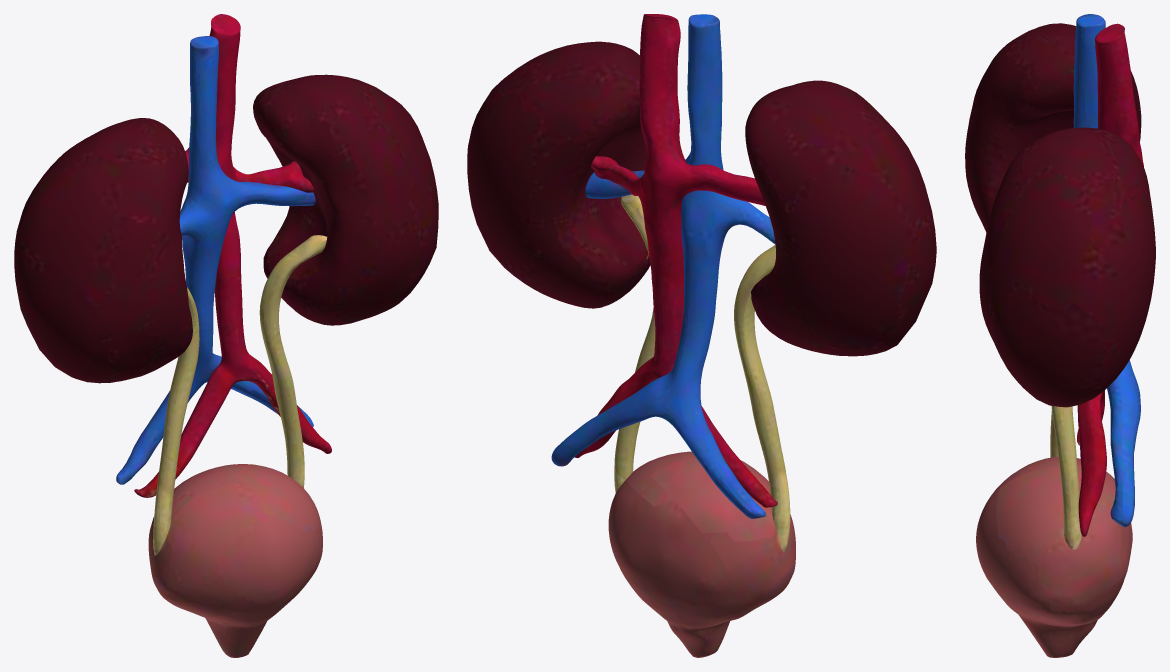
The model's file is bladder.glb.
3 views of the same model, side by side, from view 1: azimuth 30°, elevation 25°; view 2: azimuth 150°, elevation 25°; view 3: azimuth 270°, elevation 25° (orthographic). The views are drawn at different scales.
Parts seen in each view (by area): view 1: udambu; view 2: udambu; view 3: udambu.
Boxes of the visible parts, x1=… form: udambu: x1=14, y1=14, x2=438, y2=657; udambu: x1=467, y1=14, x2=936, y2=657; udambu: x1=965, y1=14, x2=1155, y2=657.
Bounding box in the file's own units: 0.4239 × 0.6 × 0.1637.
Materials: 1 (1 with a texture image).
